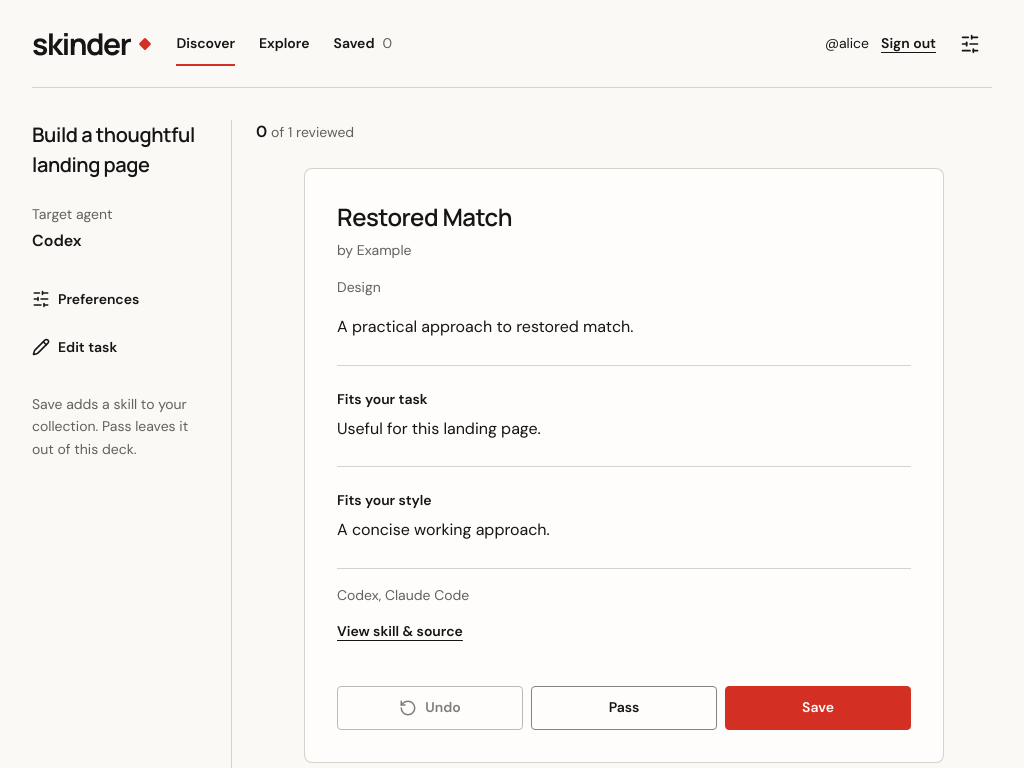
Test: skill discovery › hydrates a restored recommendation outside the catalog page and keeps it through filtering
The width and height of the screenshot is (1024, 768).
Check: the heading "Restored Match" is shown, box [337, 200, 512, 233]
Click the link "Explore": [284, 43] box [259, 34, 310, 52]
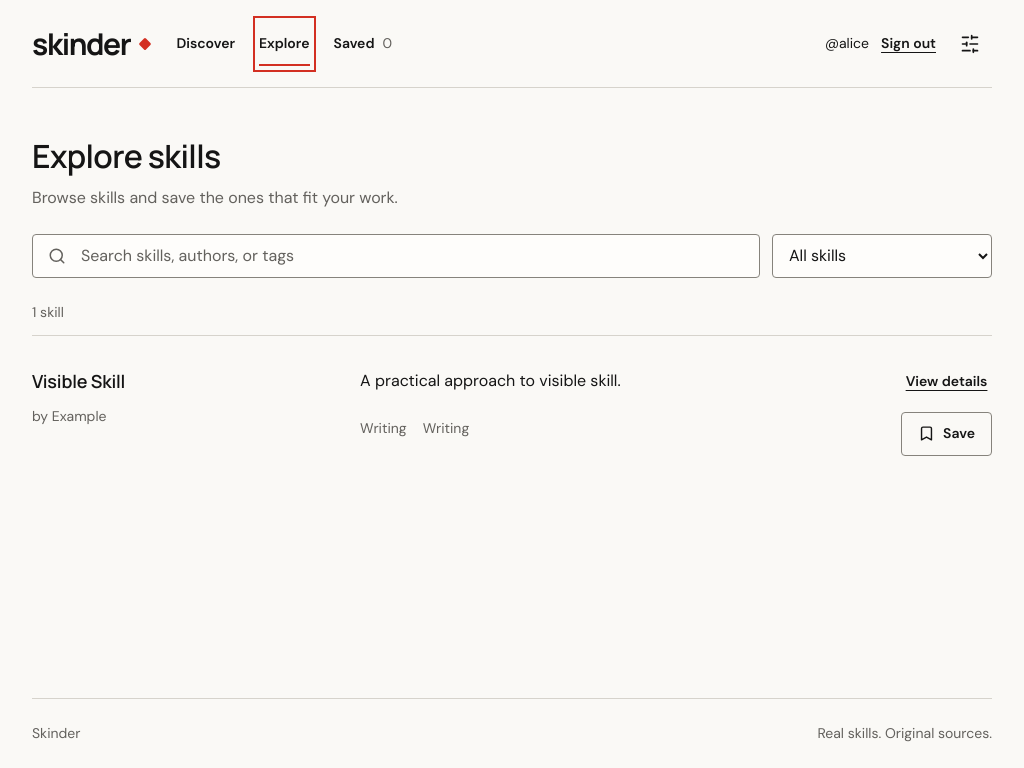
In the field labelled "Search skills": [396, 256] box [32, 234, 760, 278], type "Visible"
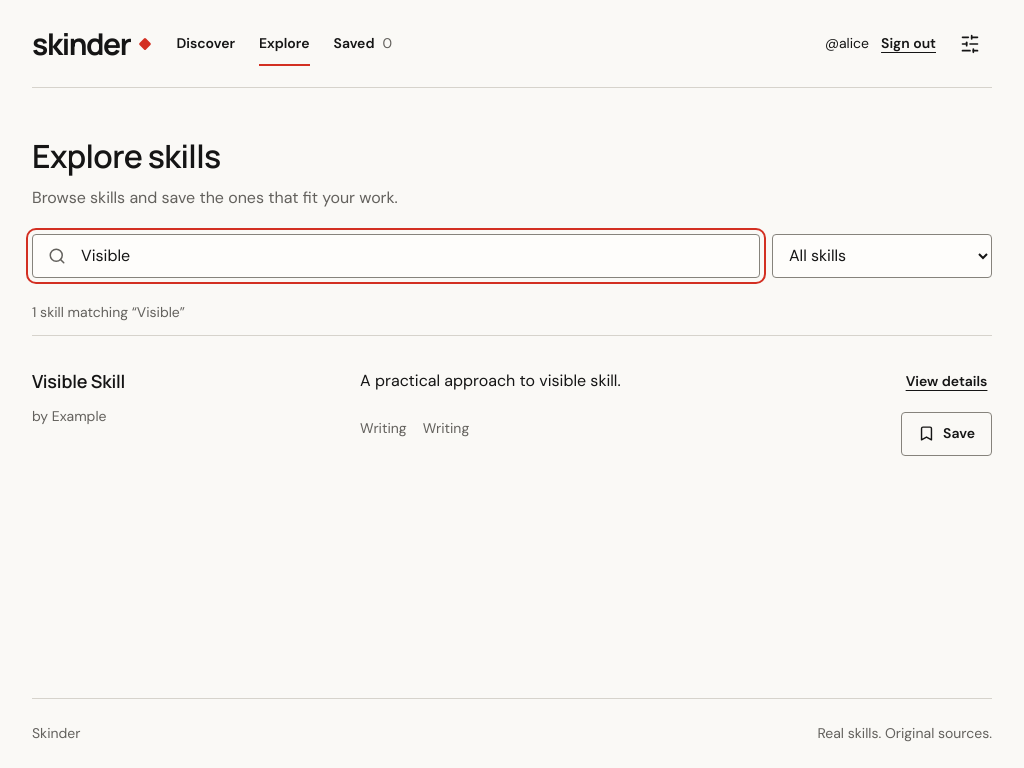
Click the link "Discover": [206, 43] box [176, 34, 235, 52]
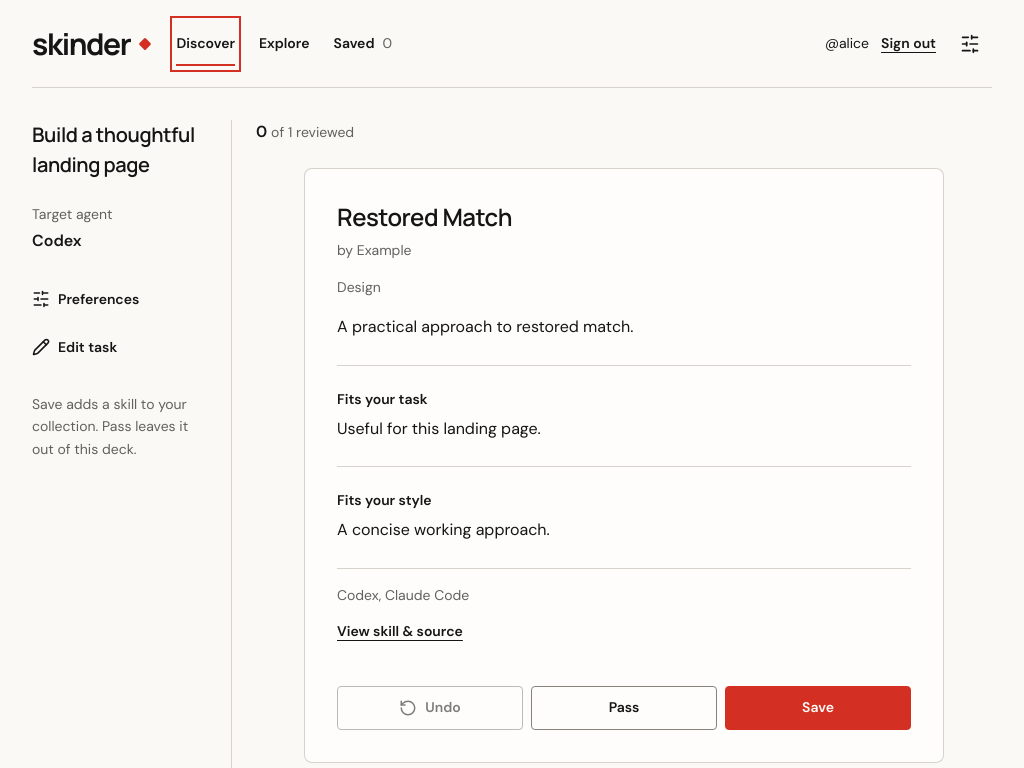
Check: the heading "Restored Match" is shown, box [337, 200, 512, 233]
